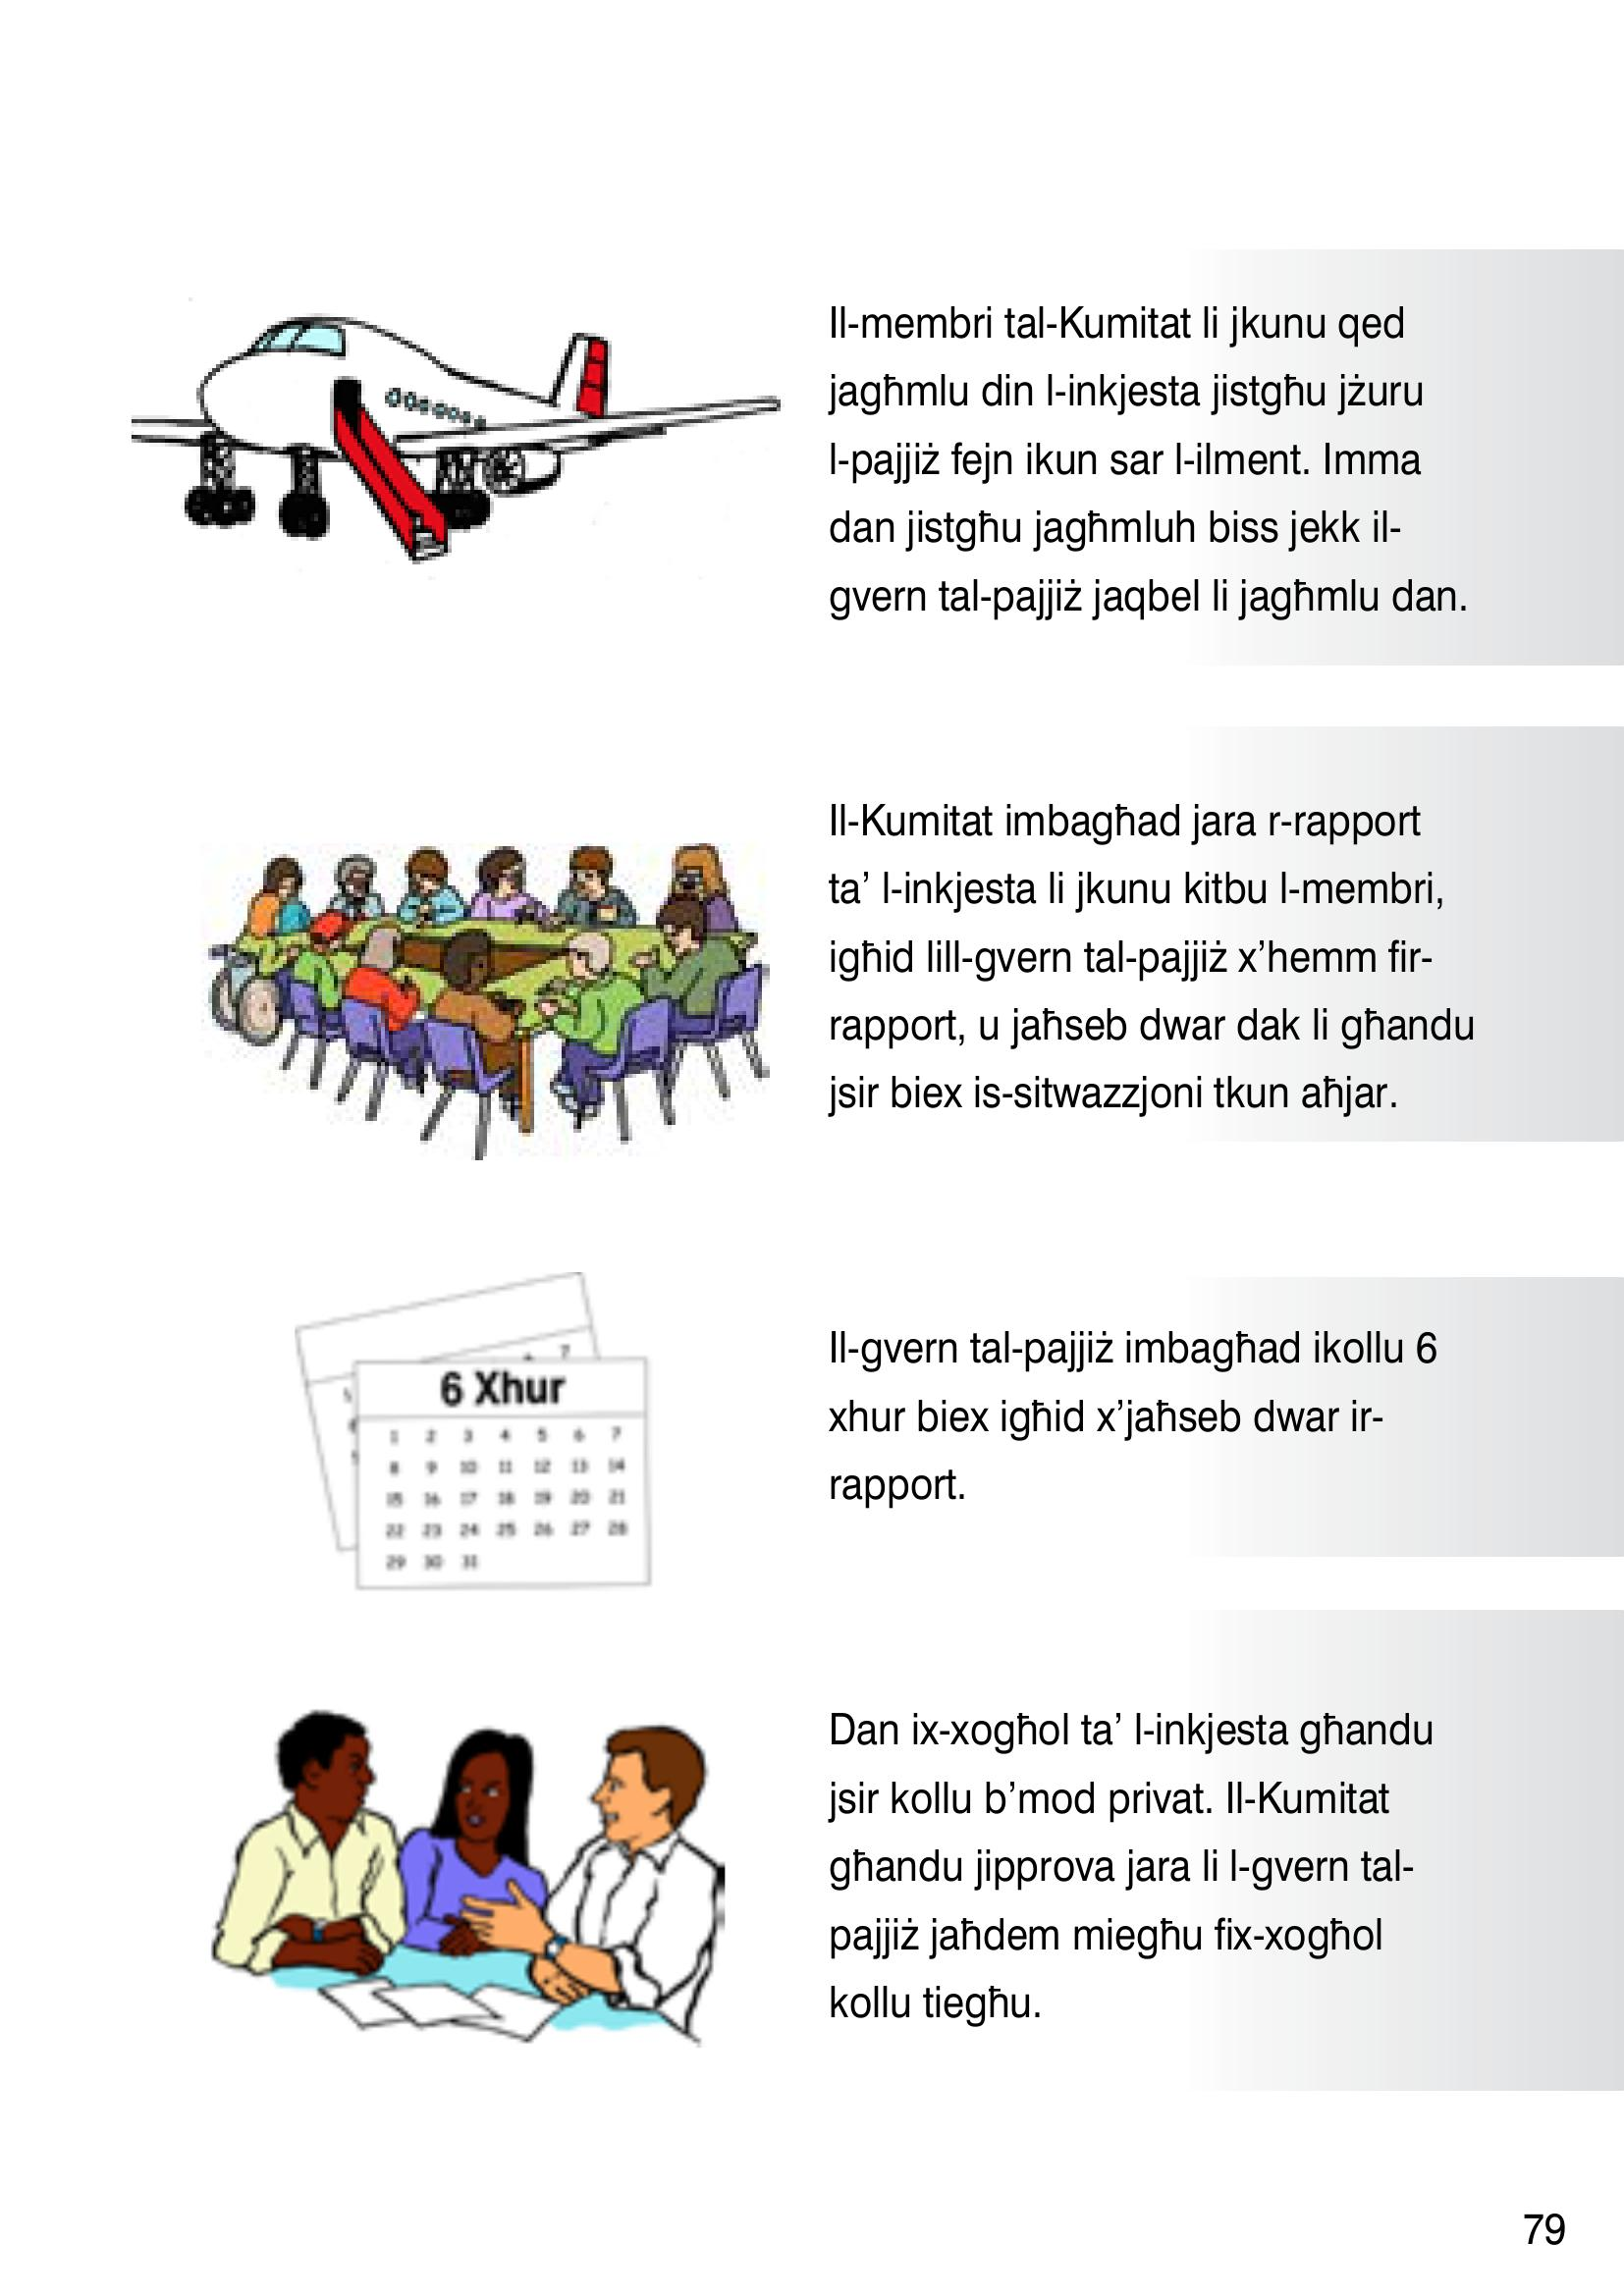text: (801, 281, 1510, 2043)
